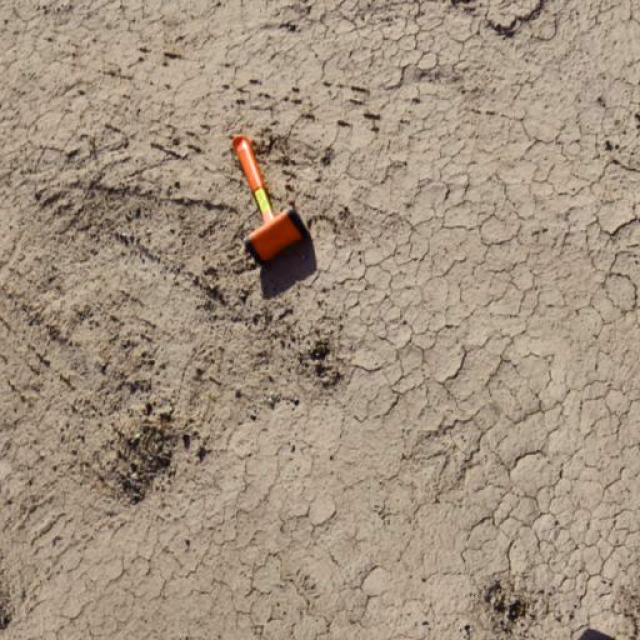mallet: (229, 132, 309, 266)
